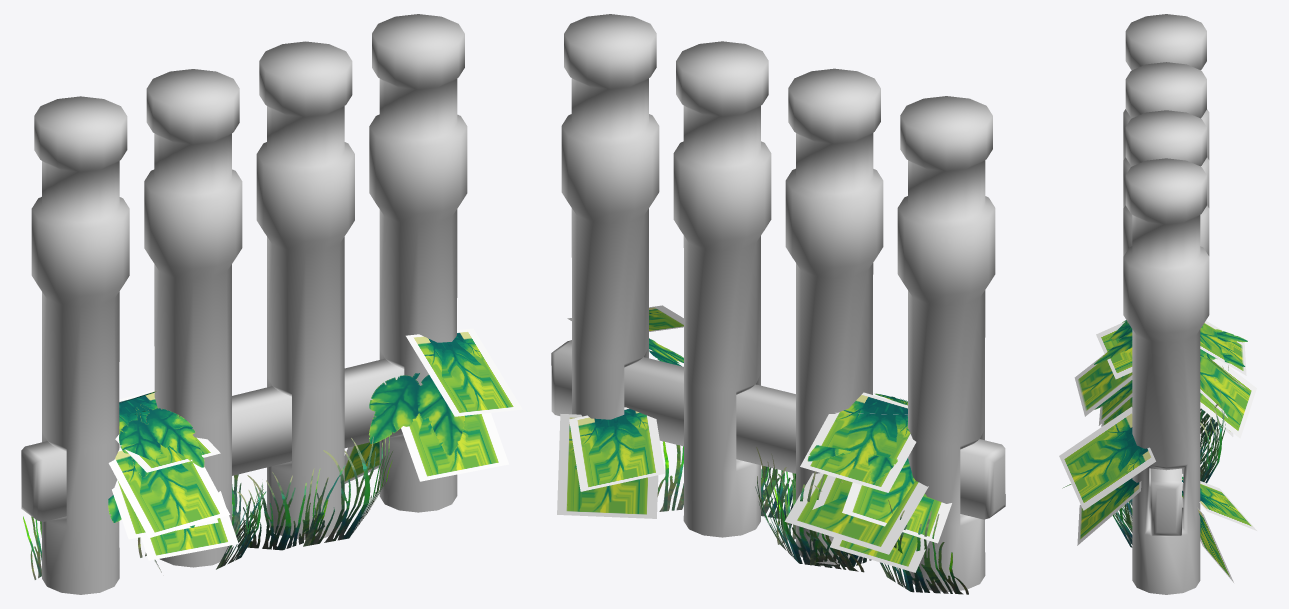
File: SM_FenceNormal.fbx
3 views of the same model, side by side, from view 1: azimuth 30°, elevation 25°; view 2: azimuth 150°, elevation 25°; view 3: azimuth 270°, elevation 25° (orthographic). The views are drawn at different scales.
Visible parts, largest first — view 1: FenceNormalMesh; view 2: FenceNormalMesh; view 3: FenceNormalMesh.
Part boxes in pixels (box(x1,y1,x2,y2)): FenceNormalMesh: box(21, 14, 522, 594); FenceNormalMesh: box(551, 14, 1005, 594); FenceNormalMesh: box(1059, 14, 1256, 594).
Bounding box in the file's own units: 394 × 394 × 209.
